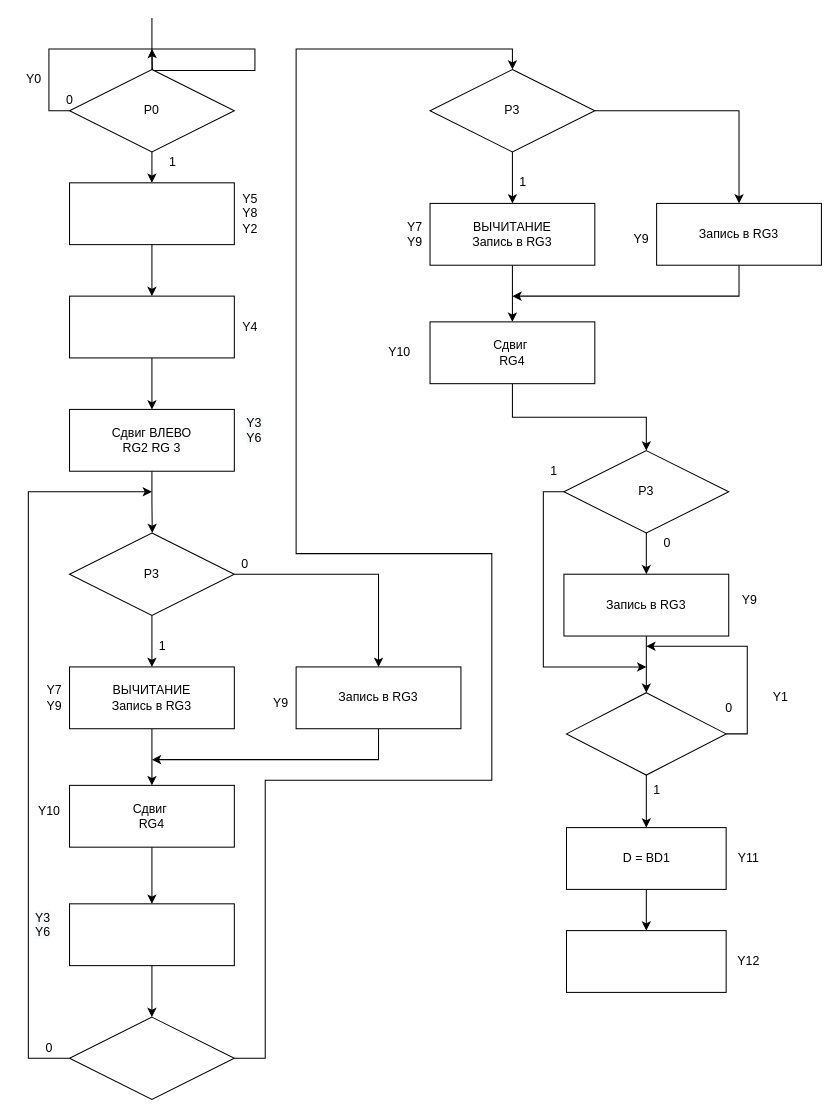
Some shapes in this 839 by 1118 pixel diagram are drawn without their labels. The shapes that lost their labels are listed below. From the top down, each one's centre as x and y in pixels, then its label:
At [151,213]: "RG2 = D2 RG3 = 0 CT1 = 0000".
At [151,326]: "RG1 = D1".
At [645,733]: "P1".
At [151,934]: "Сдвиг ВЛЕВО RG2 RG3 CT1 = CT1 +1".
At [645,961]: "D = BD2".
At [151,1058]: "P2".
